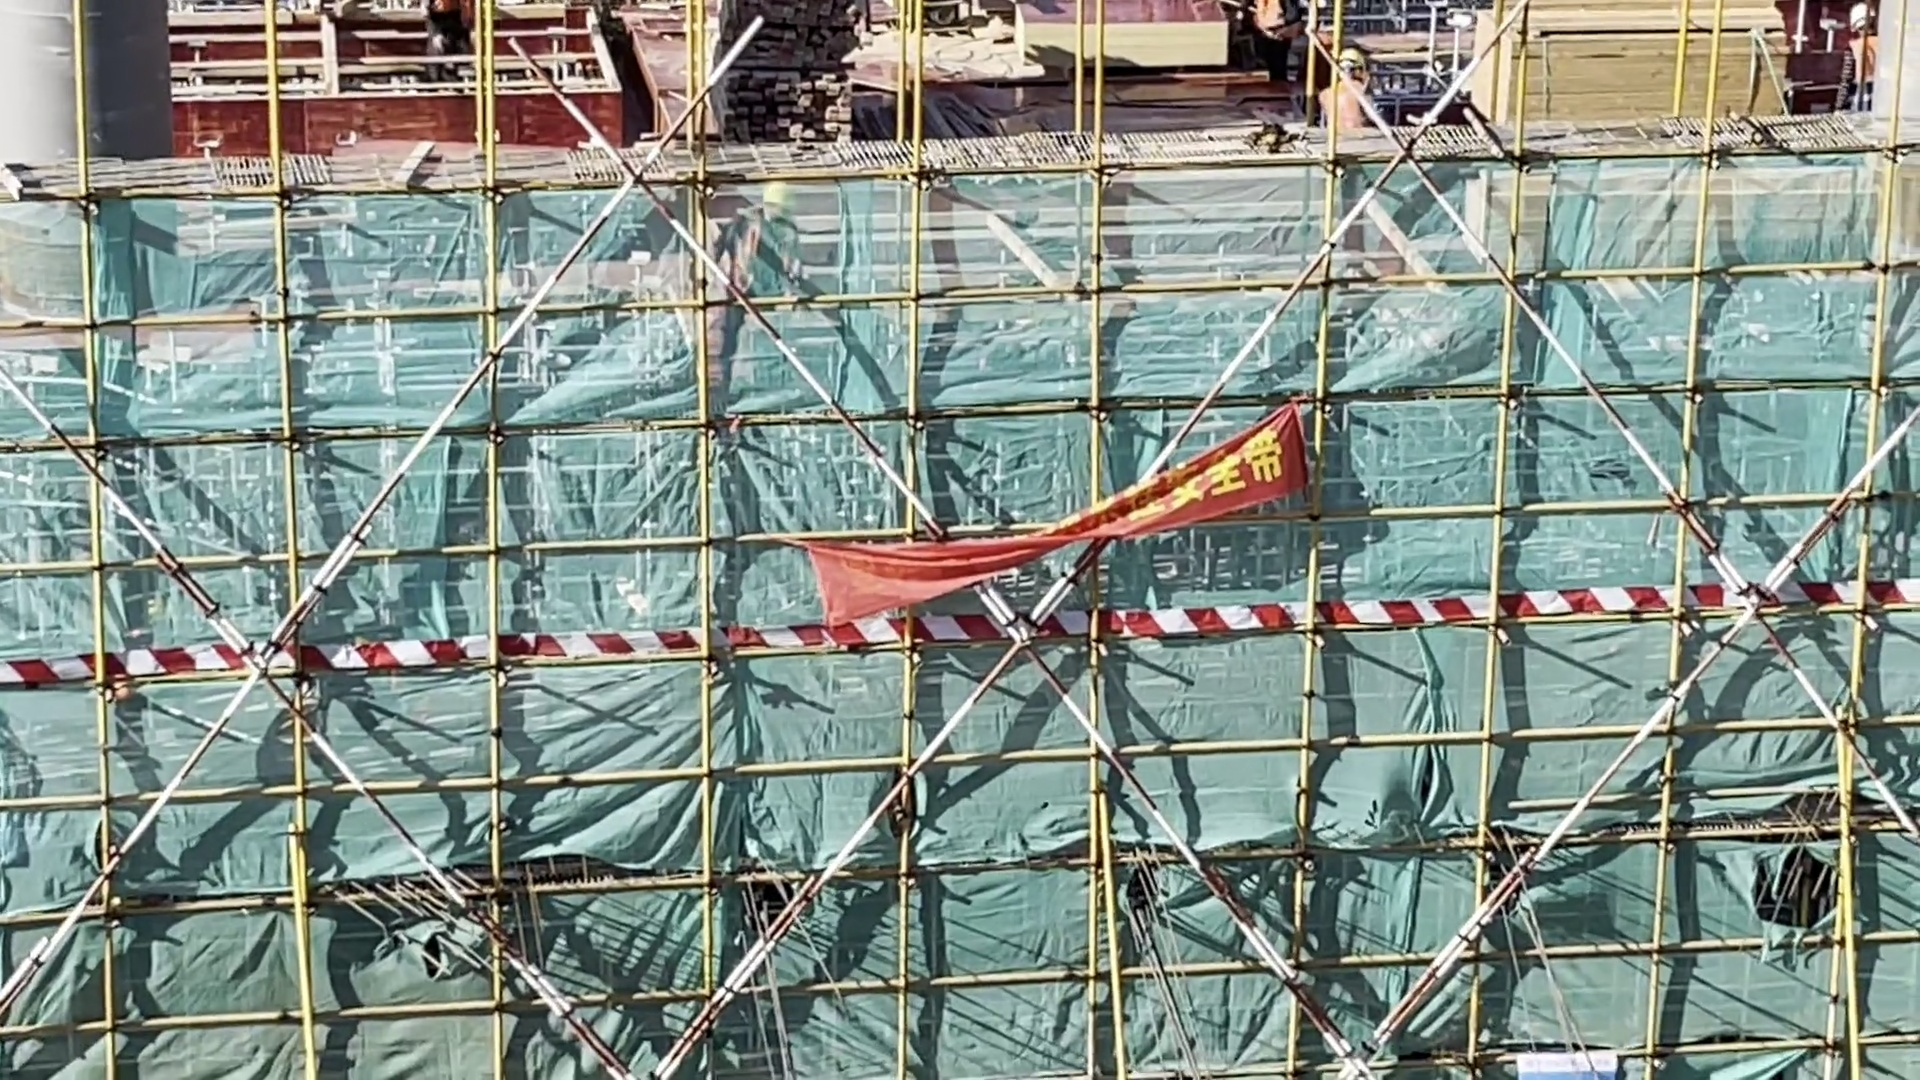helmet: (1845, 4, 1881, 42), (1334, 43, 1375, 69)
person: (1836, 1, 1895, 116), (1308, 49, 1384, 135), (1243, 1, 1304, 101)
vest: (1315, 85, 1384, 134), (1843, 37, 1885, 108)
